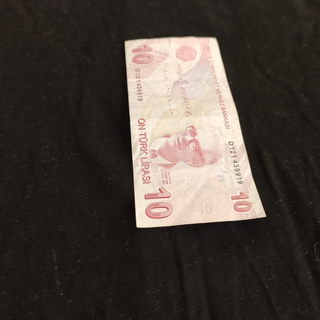10TLBack: (122, 35, 268, 229)
